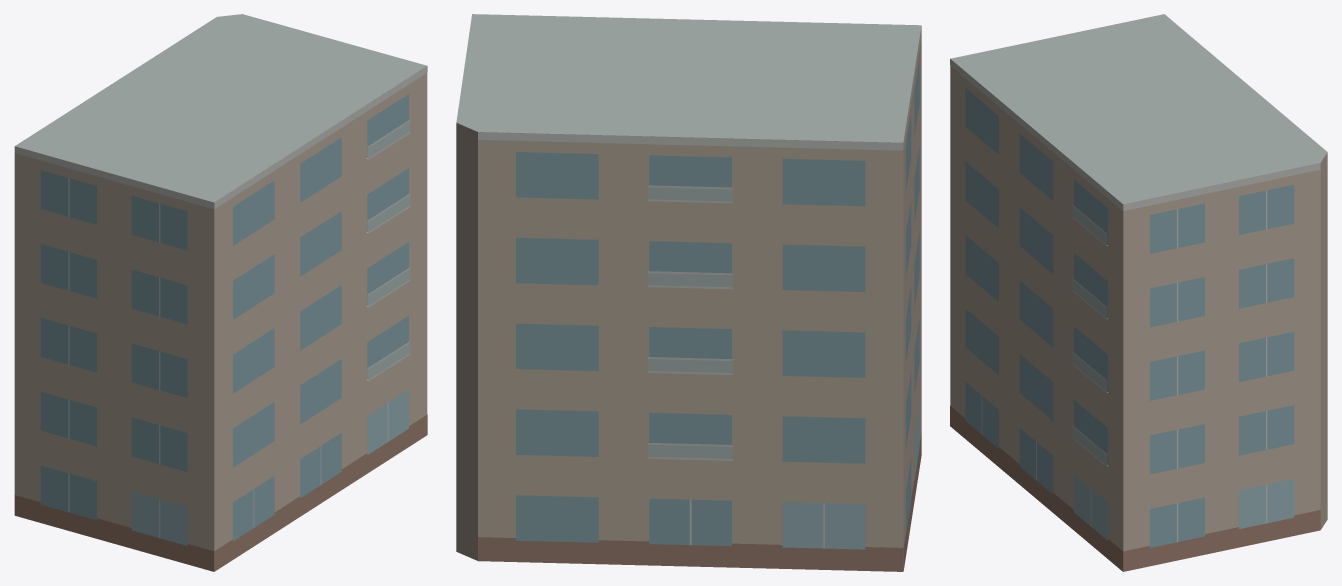
Rendered from survey-upis-32956639.glb.
3 views of the same model, side by side, from view 1: azimuth 30°, elevation 25°; view 2: azimuth 150°, elevation 25°; view 3: azimuth 270°, elevation 25° (orthographic). The views are drawn at different scales.
Parts seen in each view (by area): view 1: survey-upis-32956639.tmp; view 2: survey-upis-32956639.tmp; view 3: survey-upis-32956639.tmp.
Part boxes in pixels (<box>): survey-upis-32956639.tmp: <box>14,14,427,571</box>; survey-upis-32956639.tmp: <box>456,14,921,571</box>; survey-upis-32956639.tmp: <box>950,14,1327,571</box>.
Bounding box in the file's own units: 14.62 × 13.15 × 12.25.
